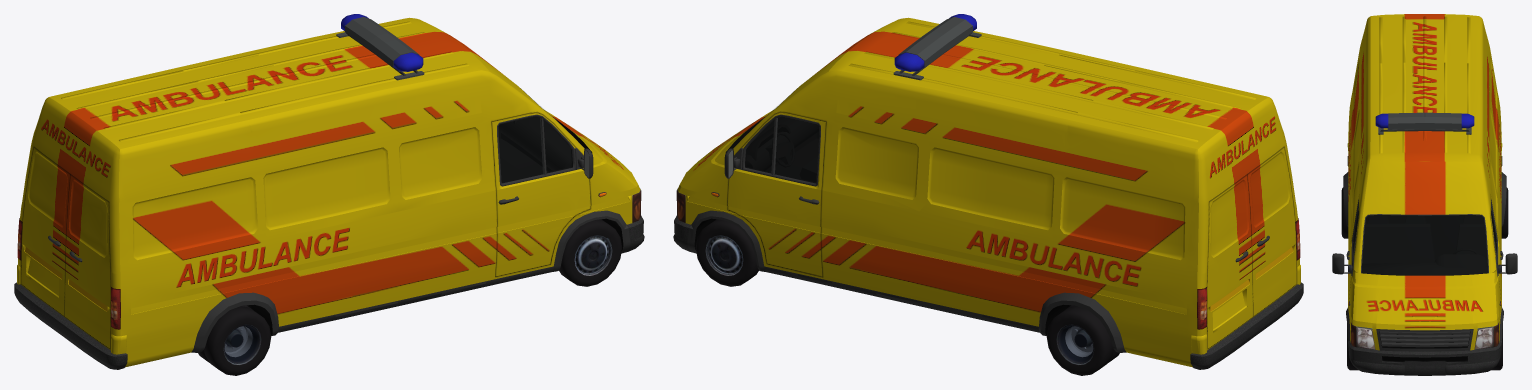
Rendered from ambulance.glb.
The picture shows the model from 3 angles, left to right: view 1: azimuth 30°, elevation 25°; view 2: azimuth 150°, elevation 25°; view 3: azimuth 270°, elevation 25°; orthographic projection. The views are drawn at different scales.
Parts seen in each view (by area): view 1: ambulance_1, Plastic_7, wheel_rr_11, wheel_fr_9, blue_lamps_2, lamps_3; view 2: ambulance_1, Plastic_7, wheel_rl_10, wheel_fl_8, blue_lamps_2, lamps_3; view 3: ambulance_1, Plastic_7, lamps_3, blue_lamps_2, lamps2_4, wheel_rl_10, wheel_rr_11.
Boxes of the visible parts, x1,y1,x2,y2 form: ambulance_1: [17, 17, 640, 367]; Plastic_7: [14, 17, 644, 369]; wheel_rr_11: [198, 305, 271, 375]; wheel_fr_9: [559, 219, 622, 286]; blue_lamps_2: [341, 14, 423, 71]; lamps_3: [17, 188, 640, 329]; ambulance_1: [677, 17, 1300, 367]; Plastic_7: [673, 17, 1303, 369]; wheel_rl_10: [1046, 305, 1119, 375]; wheel_fl_8: [695, 219, 758, 286]; blue_lamps_2: [894, 14, 976, 71]; lamps_3: [677, 188, 1300, 329]; ambulance_1: [1347, 14, 1502, 350]; Plastic_7: [1332, 112, 1517, 375]; lamps_3: [1356, 326, 1493, 349]; blue_lamps_2: [1375, 113, 1474, 128]; lamps2_4: [1348, 302, 1501, 346]; wheel_rl_10: [1501, 187, 1508, 238]; wheel_rr_11: [1341, 187, 1348, 238].
Size of what is drawn, in the model's own units: 6.59 by 2.9 by 2.52.
5 materials, 4 textured.
